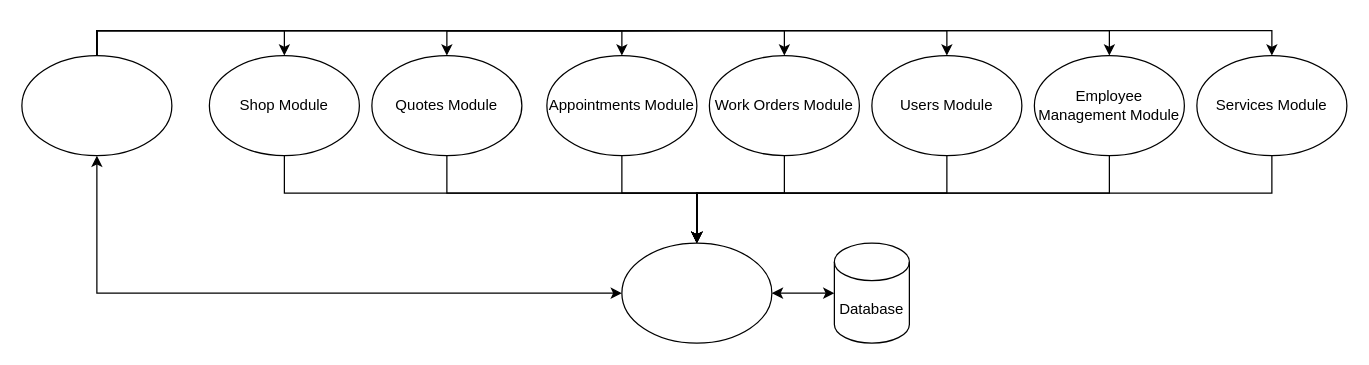
Some shapes in this 1369 by 365 pixel diagram are drawn without their labels. Each missing label, with the box of its shape:
Authentication: (21, 54, 172, 156)
Database Driver Module: (621, 242, 772, 343)
